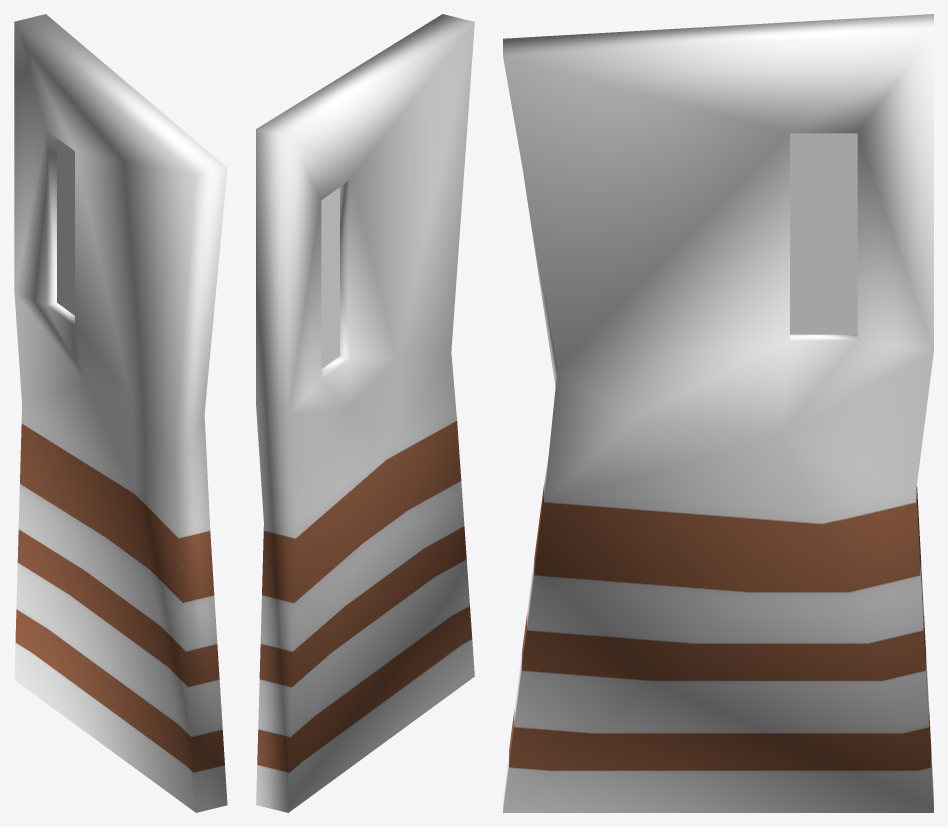
File: BrokenDoor.fbx
The picture shows the model from 3 angles, left to right: view 1: azimuth 30°, elevation 25°; view 2: azimuth 150°, elevation 25°; view 3: azimuth 270°, elevation 25°; orthographic projection. The views are drawn at different scales.
Visible parts, largest first — view 1: BrokenDoor; view 2: BrokenDoor; view 3: BrokenDoor.
Part boxes in pixels (bbox=[...]): BrokenDoor: bbox=[14, 14, 227, 812]; BrokenDoor: bbox=[256, 14, 474, 812]; BrokenDoor: bbox=[503, 14, 933, 812].
Size of the model in its own units: 14.55 by 200 by 100.
